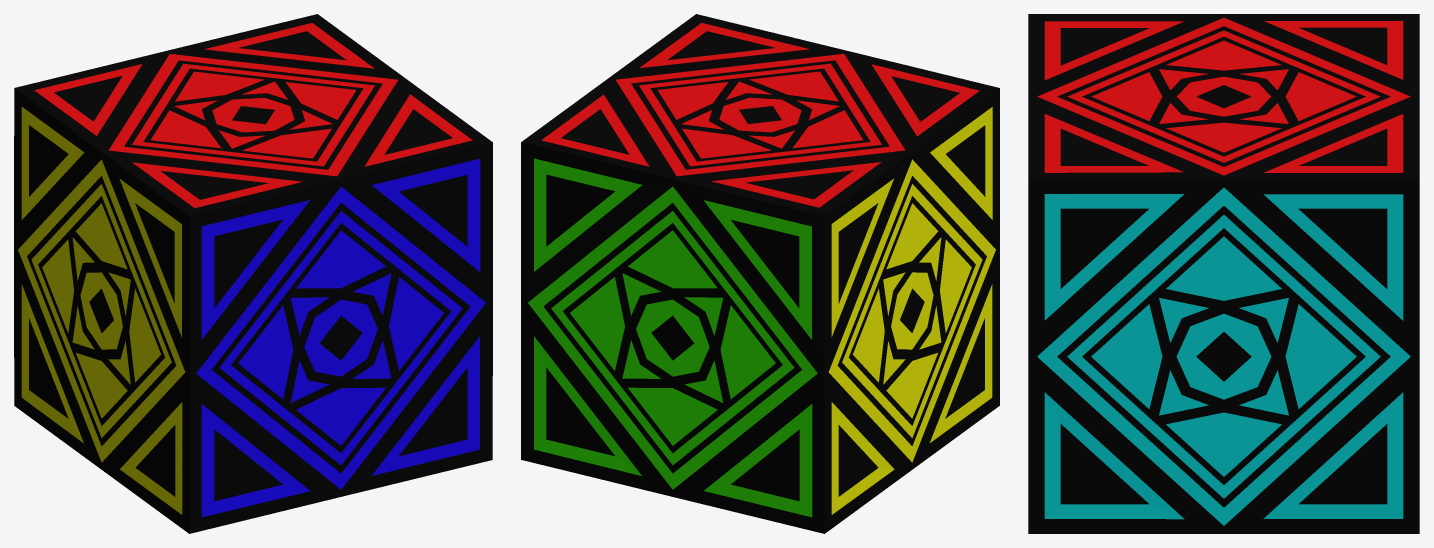
The model's file is cubeE.glb.
3 renders of one model, left to right at view 1: azimuth 30°, elevation 25°; view 2: azimuth 150°, elevation 25°; view 3: azimuth 270°, elevation 25°, orthographic. The views are drawn at different scales.
Visible parts, largest first — view 1: CubeFlower; view 2: CubeFlower; view 3: CubeFlower.
Part boxes in pixels (<box>): CubeFlower: <box>14,14,492,533</box>; CubeFlower: <box>521,14,999,533</box>; CubeFlower: <box>1028,14,1419,533</box>.
Size of the model in its own units: 1 by 1 by 1.
